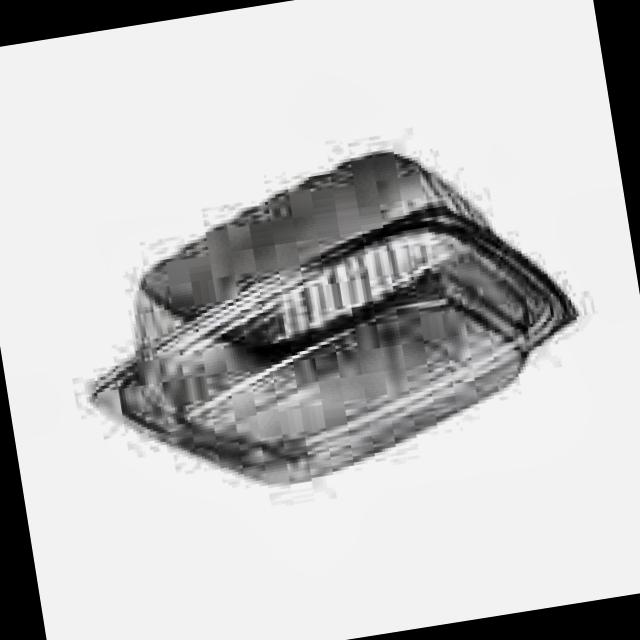plastic container: (94, 155, 574, 481)
